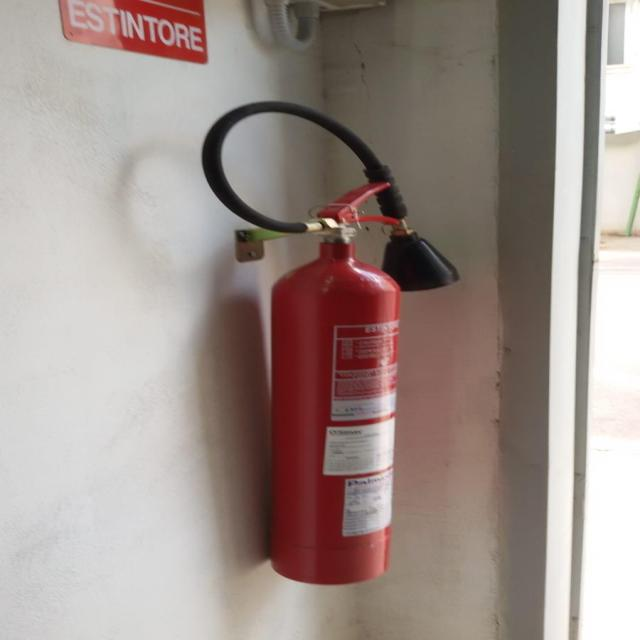fire_extinguisher: (193, 98, 463, 586)
